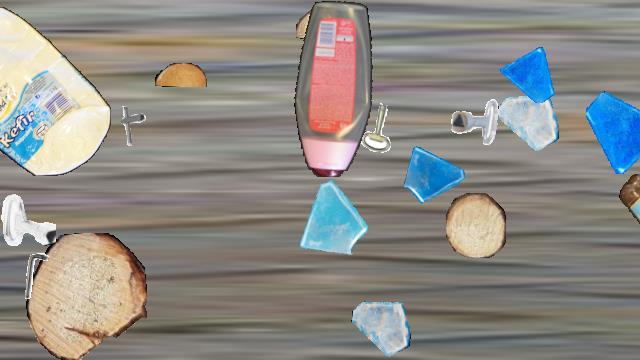glass: (289, 179, 369, 259), (586, 89, 640, 173), (401, 140, 467, 206), (498, 93, 558, 153), (351, 299, 411, 359), (500, 46, 556, 102)
metal: (0, 191, 56, 249), (353, 100, 409, 156), (11, 249, 65, 303), (450, 97, 502, 149), (109, 103, 153, 147), (0, 99, 9, 159)
plastic: (0, 1, 111, 175), (293, 1, 377, 177), (616, 174, 640, 272)
wood: (26, 233, 146, 359), (446, 193, 506, 257), (296, 9, 370, 41), (155, 63, 207, 87)
